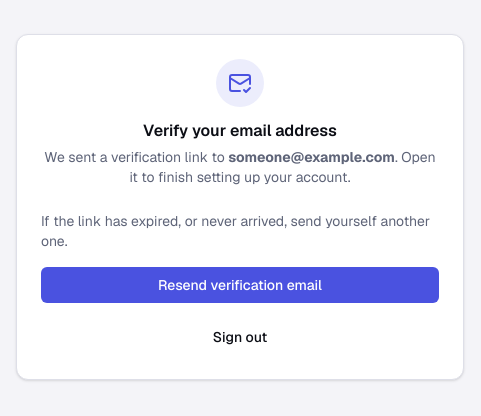
Test: VerifyEmailNotice › surfaces a send failure rather than pretending it worked
Click the button "Resend verification email".
click(240, 285)  # box [41,267,439,303]
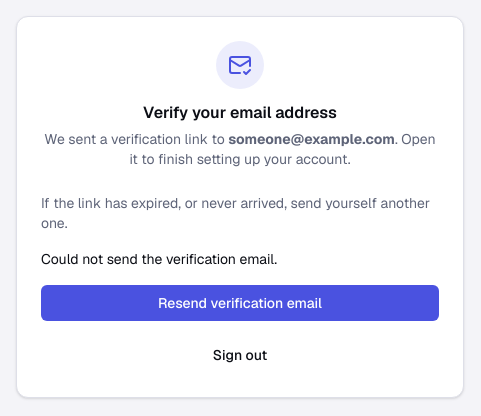
Expected: the message shows "Could not send", [41,250,277,268]
